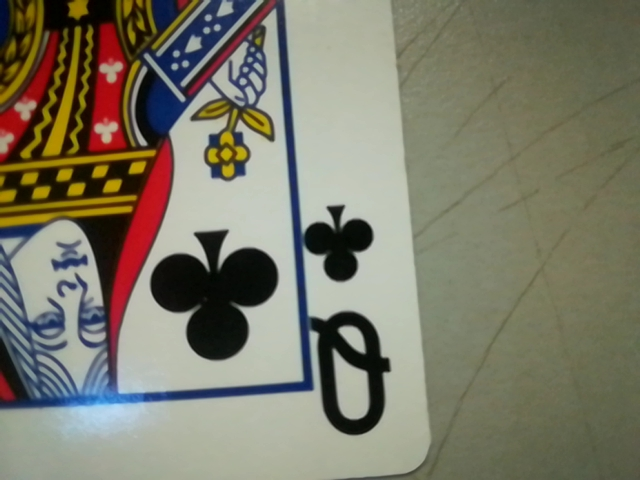mh q: (294, 197, 411, 450)
